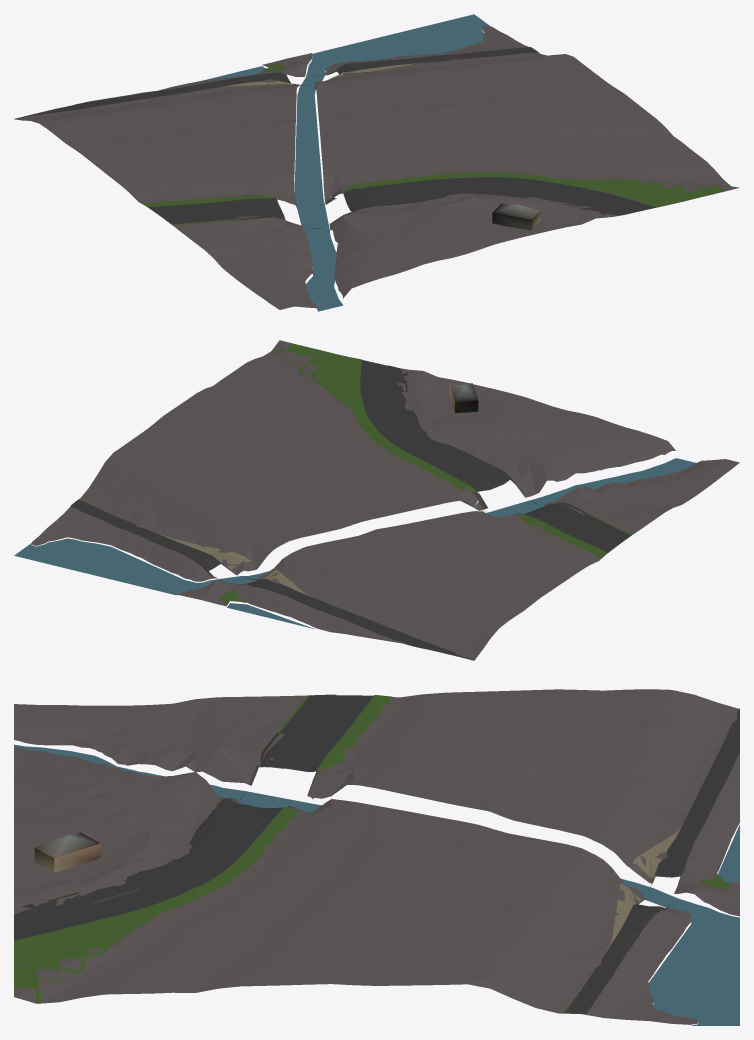
3 renders of one model, top to bottom at view 1: azimuth 30°, elevation 25°; view 2: azimuth 150°, elevation 25°; view 3: azimuth 270°, elevation 25°, orthographic. The views are drawn at different scales.
Visible parts, largest first — view 1: c_m20_p02; view 2: c_m20_p02; view 3: c_m20_p02.
Boxes of the visible parts, box(x1,y1,x2,y2) form: c_m20_p02: box(14, 14, 739, 311); c_m20_p02: box(14, 340, 739, 660); c_m20_p02: box(14, 689, 739, 1025).
Bounding box in the file's own units: 128 × 10.61 × 128.
